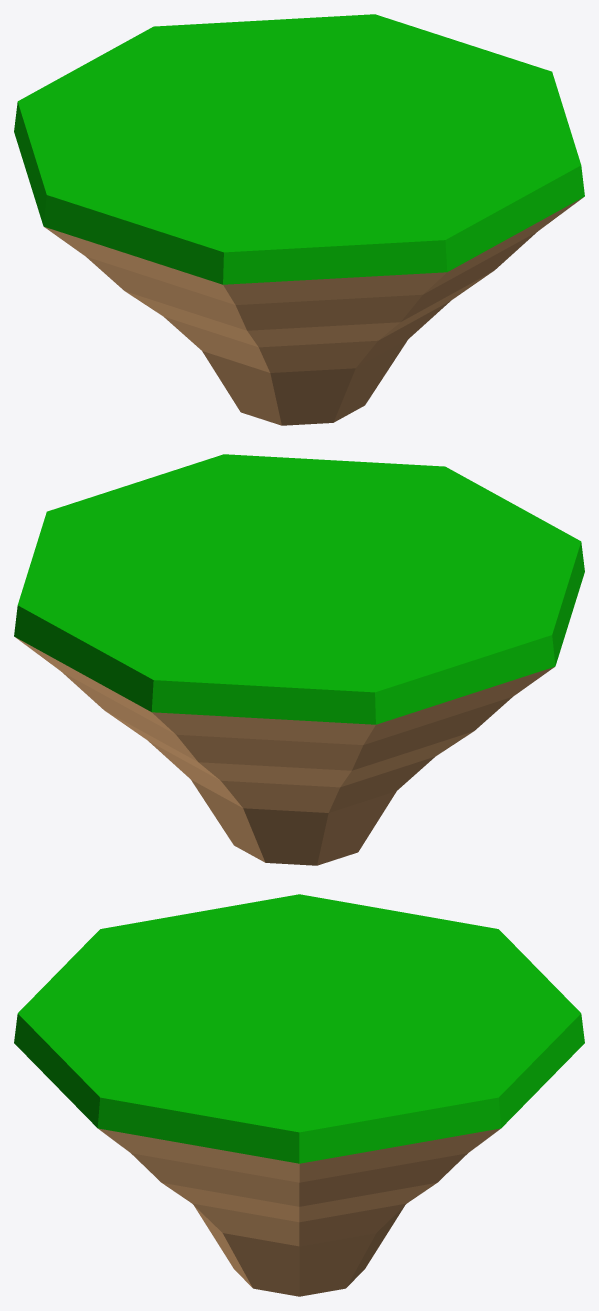
Rendered from island_medium.glb.
3 renders of one model, top to bottom at view 1: azimuth 30°, elevation 25°; view 2: azimuth 150°, elevation 25°; view 3: azimuth 270°, elevation 25°, orthographic. The views are drawn at different scales.
Parts seen in each view (by area): view 1: IslandMedium; view 2: IslandMedium; view 3: IslandMedium.
Boxes of the visible parts, x1,y1,x2,y2 form: IslandMedium: (14,14,584,425); IslandMedium: (14,454,584,865); IslandMedium: (14,894,584,1296).
Bounding box in the file's own units: 20.26 × 10.01 × 20.26.
1 material, 1 textured.
